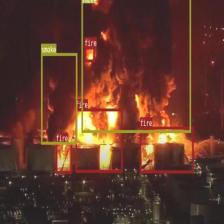fire: (76, 108, 122, 172), (139, 127, 193, 172), (56, 142, 72, 174), (84, 46, 94, 62)
smoke: (81, 0, 190, 132), (41, 53, 77, 144)
